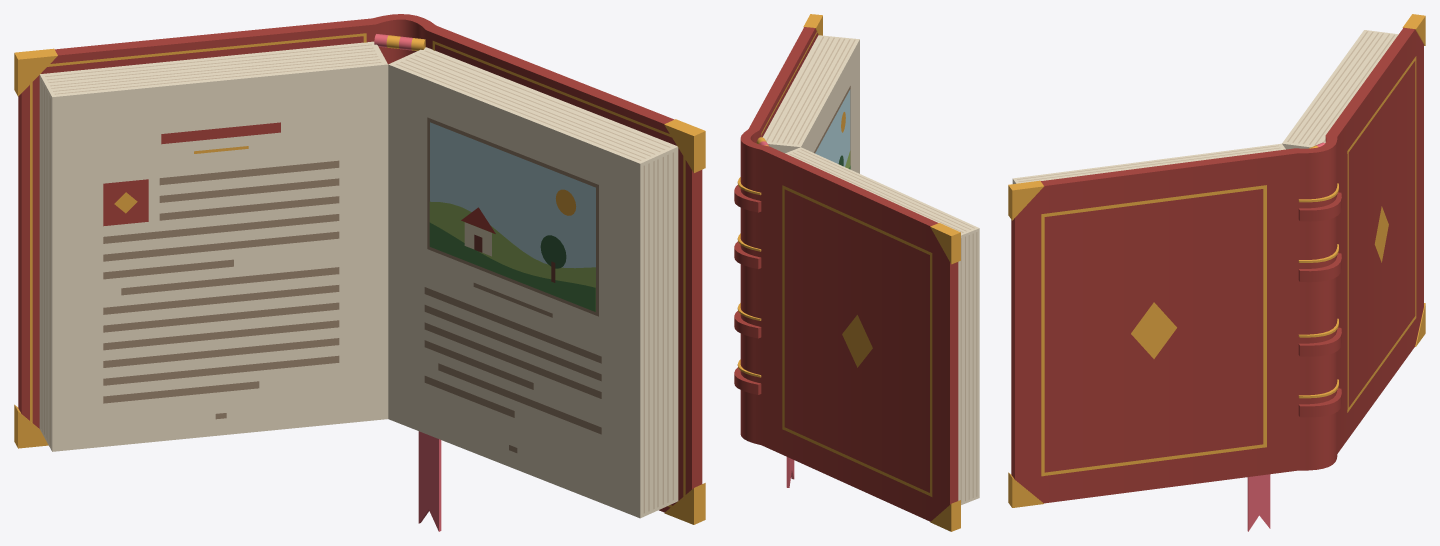
The model's file is book.glb.
3 renders of one model, left to right at view 1: azimuth 30°, elevation 25°; view 2: azimuth 150°, elevation 25°; view 3: azimuth 270°, elevation 25°, orthographic. The views are drawn at different scales.
Visible parts, largest first — view 1: book; view 2: book; view 3: book.
Boxes of the visible parts, box(x1,y1,x2,y2) form: book: box(14, 14, 705, 531); book: box(734, 14, 979, 531); book: box(1008, 14, 1425, 531).
Bounding box in the file's own units: 2.74 × 2.82 × 2.74.
